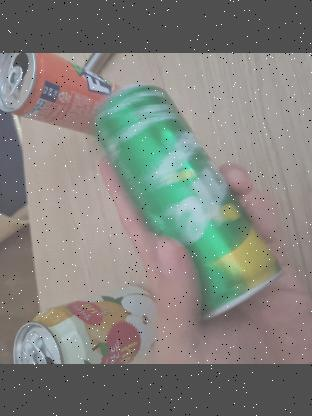Can: (95, 110, 271, 292)
